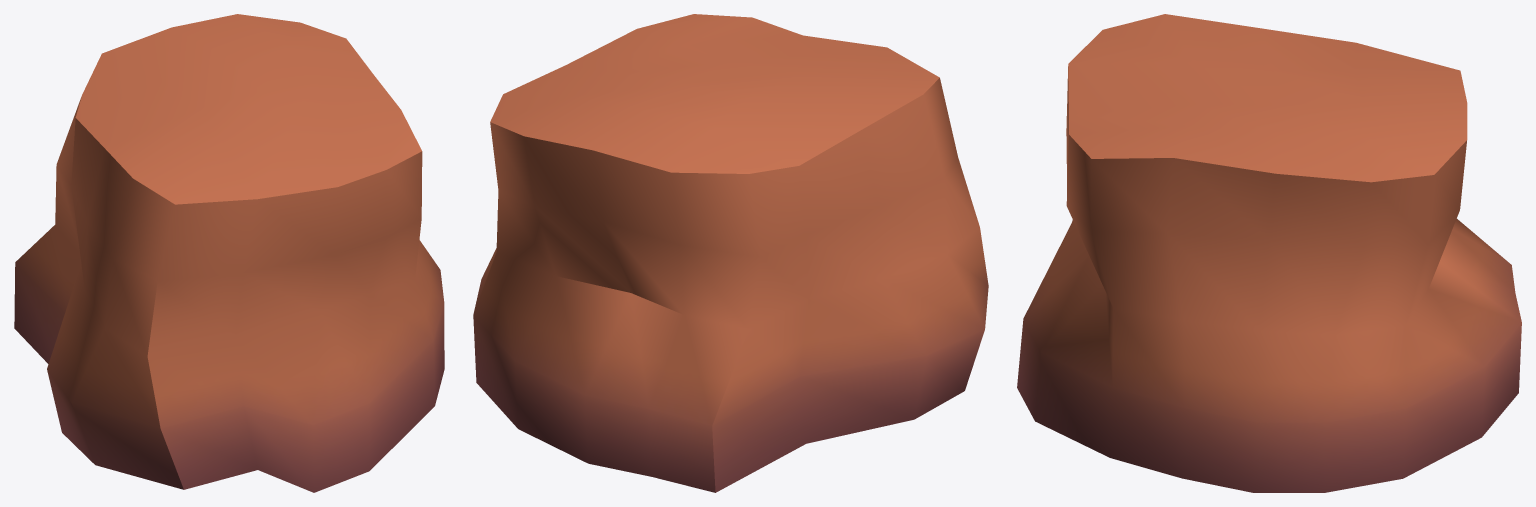
The model's file is tableland2.fbx.
The picture shows the model from 3 angles, left to right: view 1: azimuth 30°, elevation 25°; view 2: azimuth 150°, elevation 25°; view 3: azimuth 270°, elevation 25°; orthographic projection. The views are drawn at different scales.
Parts seen in each view (by area): view 1: Tableland2; view 2: Tableland2; view 3: Tableland2.
Boxes of the visible parts, x1=… form: Tableland2: x1=14, y1=14, x2=444, y2=492; Tableland2: x1=473, y1=14, x2=988, y2=492; Tableland2: x1=1017, y1=14, x2=1521, y2=492.
Bounding box in the file's own units: 360 × 252 × 355.
